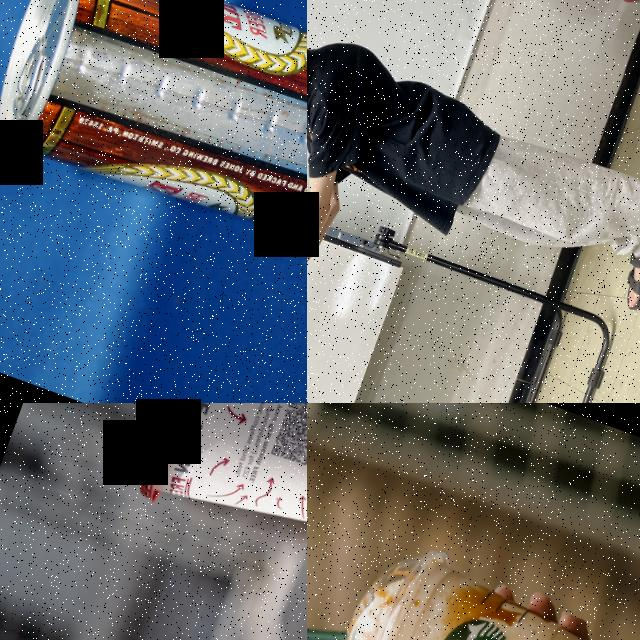can: (0, 0, 307, 278)
cup: (105, 403, 307, 579), (310, 528, 610, 640)
